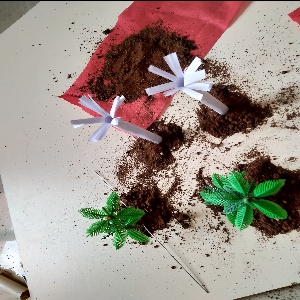plant: (197, 166, 284, 226), (72, 197, 149, 249)
weed: (142, 48, 240, 120), (66, 89, 160, 150)
